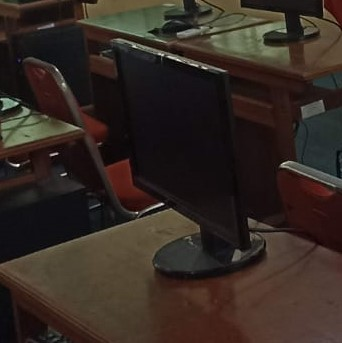monitor: (110, 38, 252, 257), (239, 0, 324, 44)
